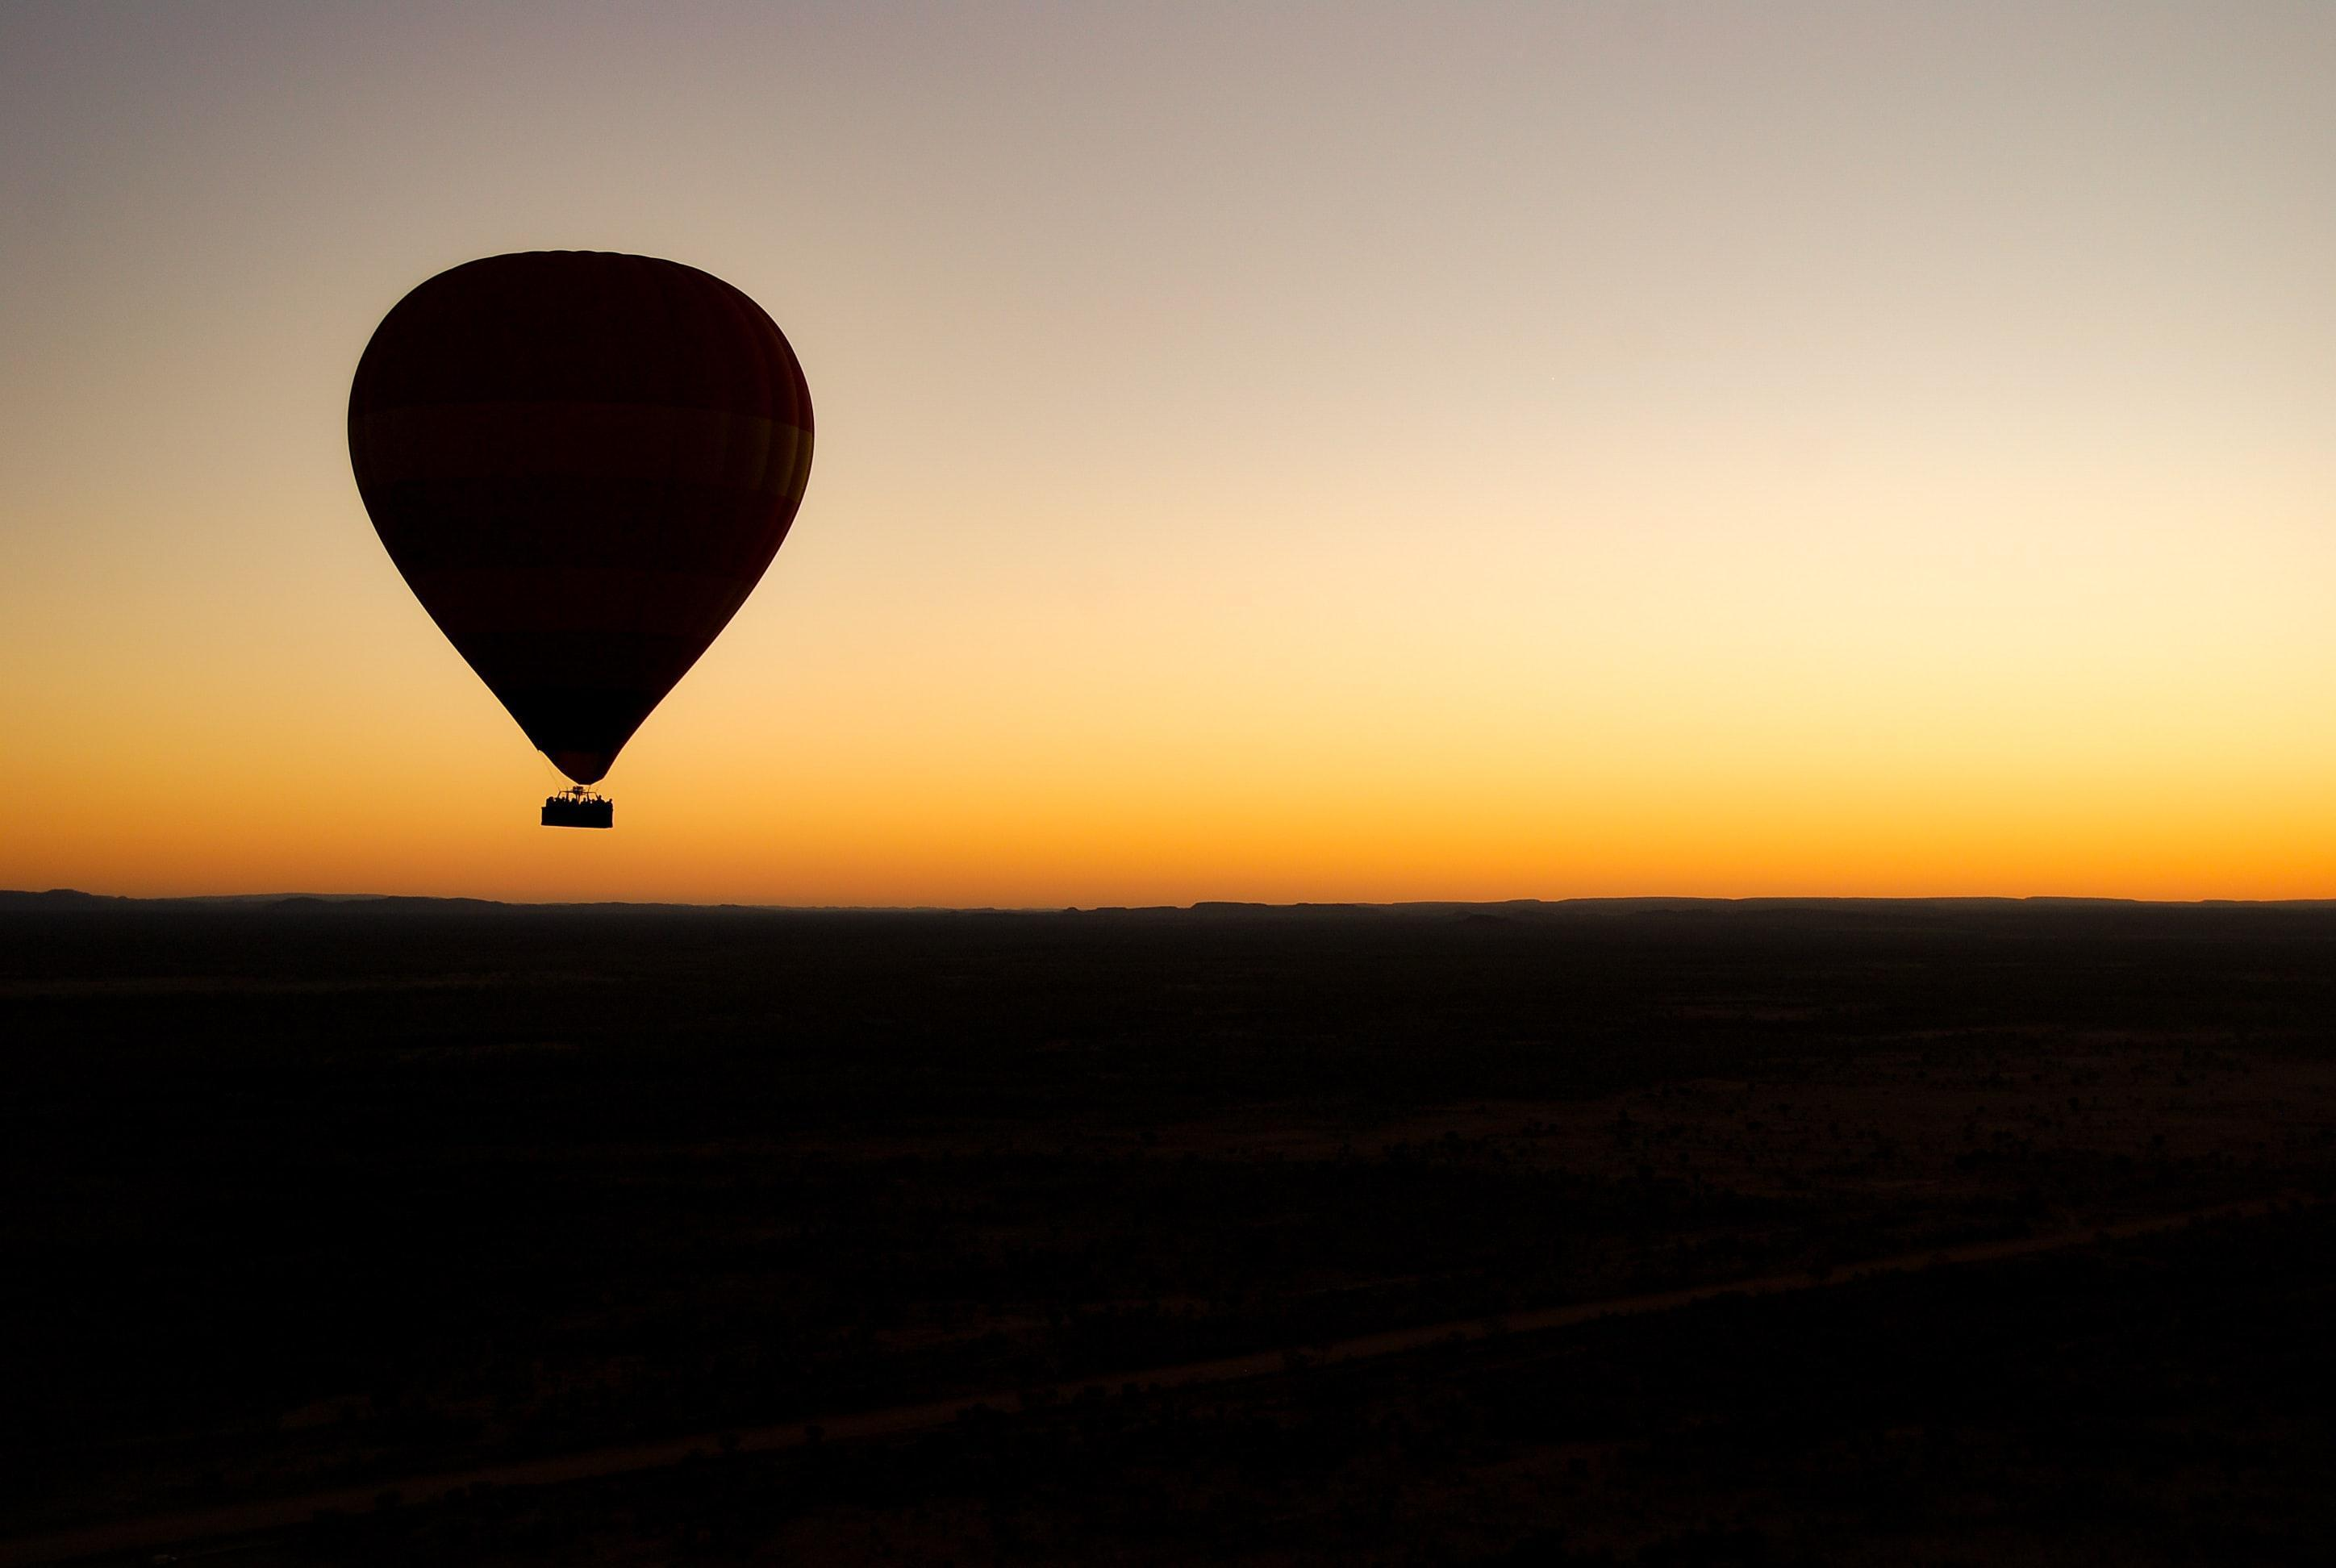hot air ballon: (338, 241, 821, 833)
